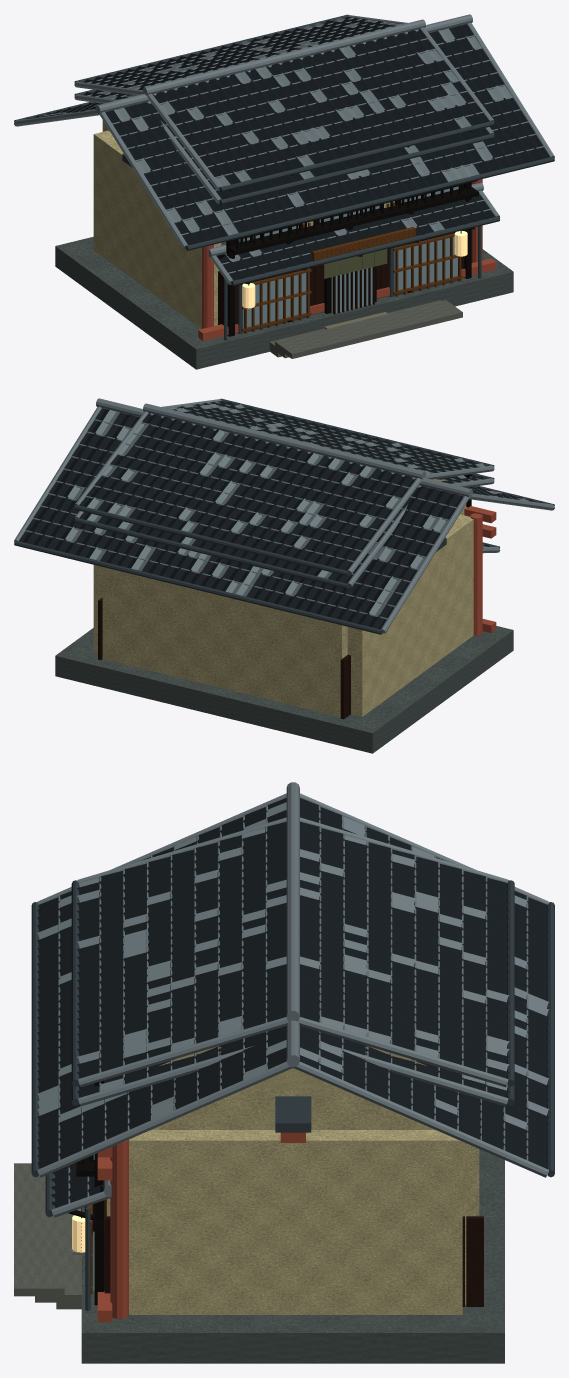
The model's file is koharu-architecture.glb.
The picture shows the model from 3 angles, top to bottom: view 1: azimuth 30°, elevation 25°; view 2: azimuth 150°, elevation 25°; view 3: azimuth 270°, elevation 25°; orthographic projection. The views are drawn at different scales.
Visible parts, largest first — view 1: Kawara_inn, Shrine_carpentry, Shrine_roof, Structure_tea, Shop_eaves_tea, Kawara_tea; view 2: Kawara_inn, Shrine_carpentry, Shrine_roof, Structure_tea, Kawara_tea; view 3: Shrine_carpentry, Kawara_inn, Shrine_roof, Structure_tea, Kawara_tea, Shop_eaves_tea, Vermilion_gate, Structure_inn.
Boxes of the visible parts, x1=… form: Kawara_inn: x1=74, y1=14, x2=494, y2=191; Shrine_carpentry: x1=55, y1=130, x2=513, y2=369; Shrine_roof: x1=14, y1=14, x2=554, y2=250; Structure_tea: x1=102, y1=120, x2=494, y2=340; Shop_eaves_tea: x1=208, y1=182, x2=499, y2=286; Kawara_tea: x1=74, y1=89, x2=494, y2=204; Kawara_inn: x1=74, y1=398, x2=494, y2=575; Shrine_carpentry: x1=55, y1=506, x2=513, y2=753; Shrine_roof: x1=14, y1=398, x2=554, y2=634; Structure_tea: x1=98, y1=474, x2=492, y2=719; Kawara_tea: x1=74, y1=473, x2=494, y2=588; Shrine_carpentry: x1=14, y1=1130, x2=504, y2=1363; Kawara_inn: x1=71, y1=807, x2=514, y2=1087; Shrine_roof: x1=31, y1=782, x2=554, y2=1177; Structure_tea: x1=52, y1=1068, x2=483, y2=1310; Kawara_tea: x1=71, y1=1040, x2=514, y2=1106; Shop_eaves_tea: x1=45, y1=1162, x2=111, y2=1217; Vermilion_gate: x1=275, y1=1096, x2=311, y2=1142; Structure_inn: x1=159, y1=1046, x2=426, y2=1087.
Size of the model in its own units: 15.26 by 8.82 by 12.78.
21 materials, 9 textured.
